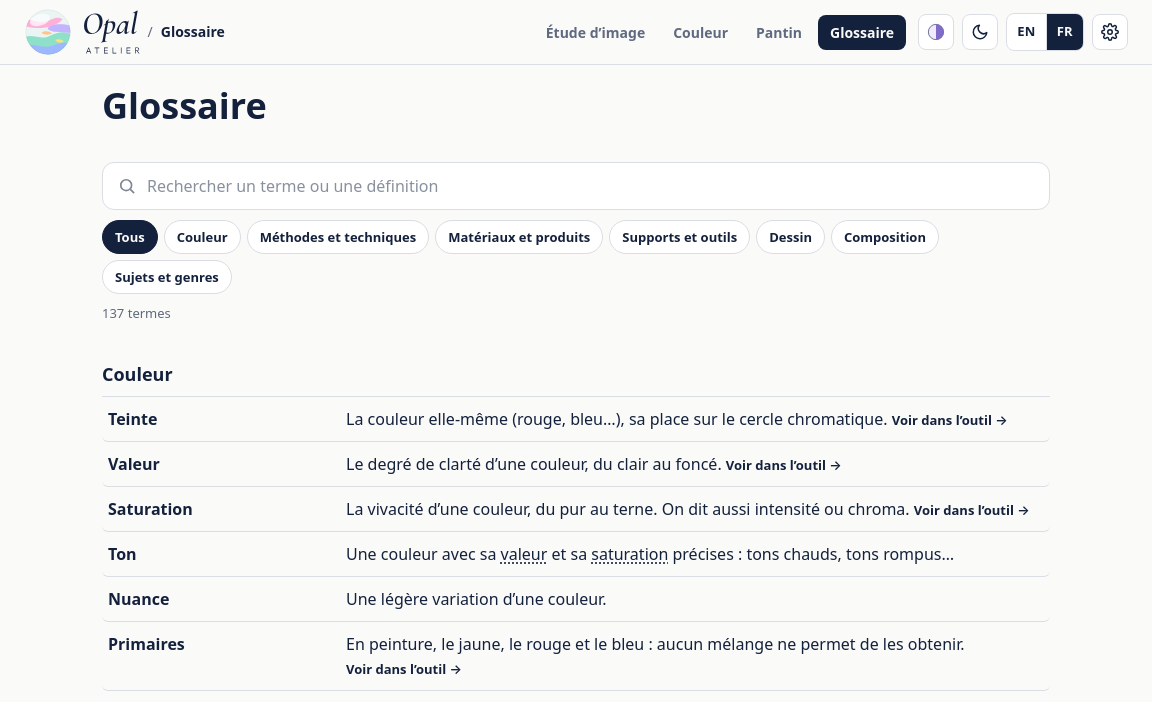
GlossaryPage › searches without caring about accents or case
Type "EMPATEMENT" into the search field at (591, 186), box x1=147 y1=164 x2=1035 y2=208
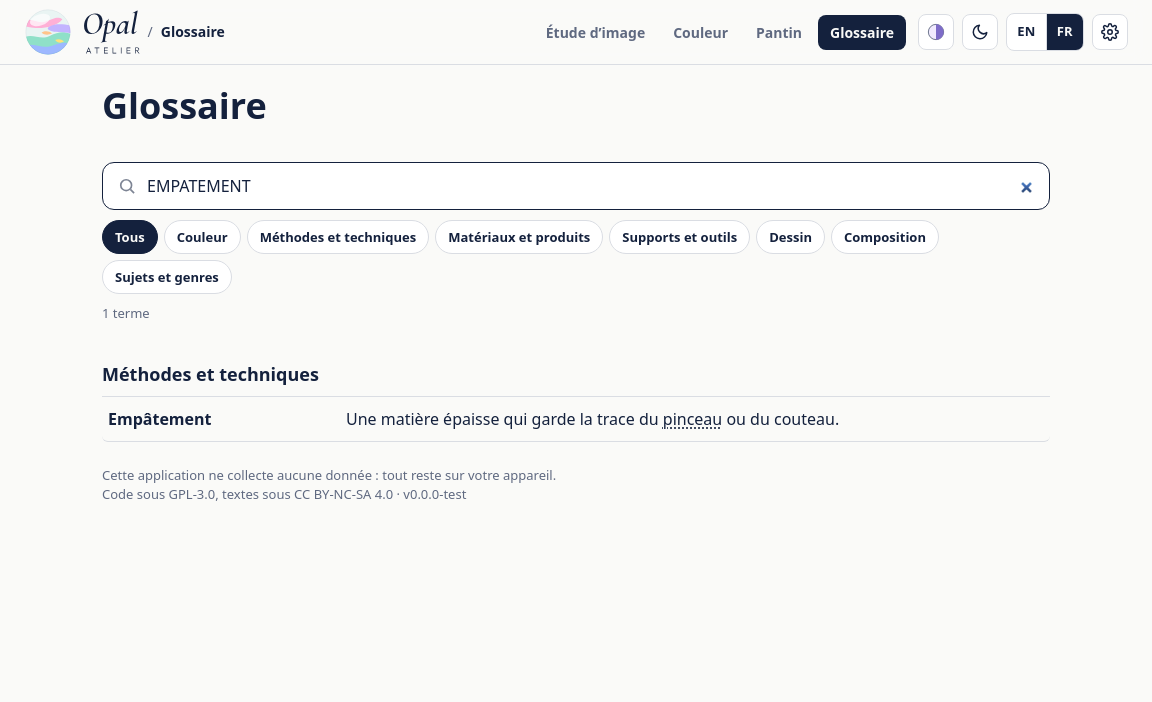
Expected: the text "Empâtement" is shown, x1=108 y1=408 x2=212 y2=430
Expected: the text "1 terme" is shown, x1=102 y1=304 x2=150 y2=322
